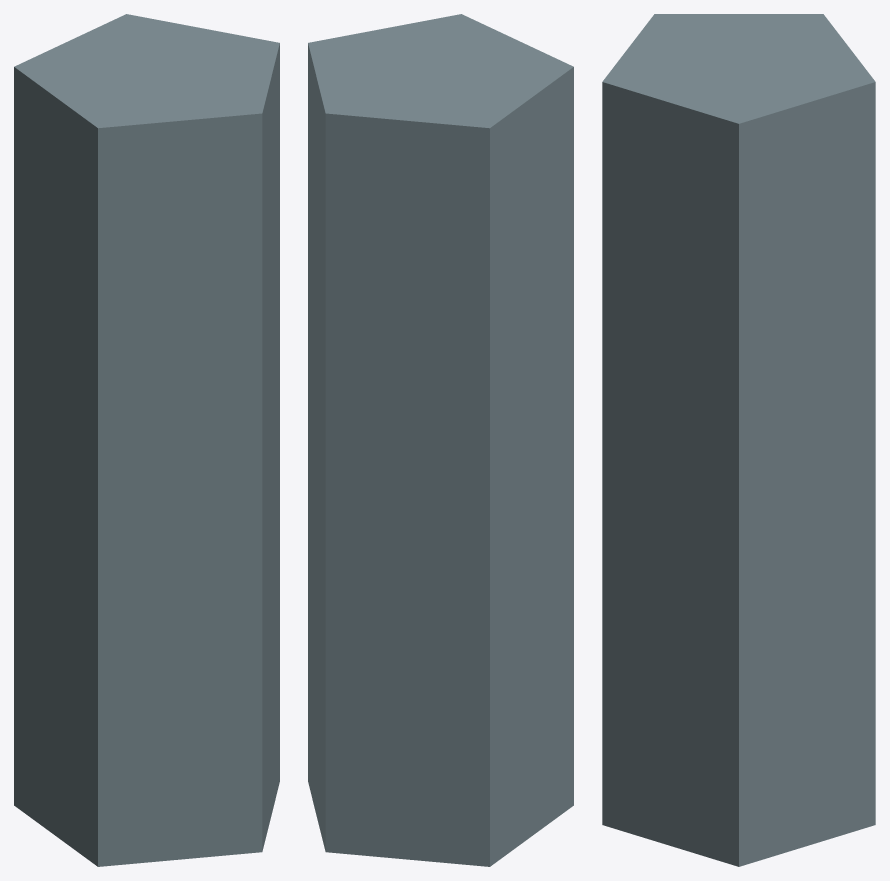
Rendered from prop_bollard_ShadowProxy.glb.
The picture shows the model from 3 angles, left to right: view 1: azimuth 30°, elevation 25°; view 2: azimuth 150°, elevation 25°; view 3: azimuth 270°, elevation 25°; orthographic projection.
Parts seen in each view (by area): view 1: prop_bollard__surface.003; view 2: prop_bollard__surface.003; view 3: prop_bollard__surface.003.
Boxes of the visible parts, x1,y1,x2,y2 form: prop_bollard__surface.003: (14, 14, 279, 866); prop_bollard__surface.003: (308, 14, 573, 866); prop_bollard__surface.003: (602, 14, 875, 866).
Bounding box in the file's own units: 0.2442 × 0.77 × 0.2568.
